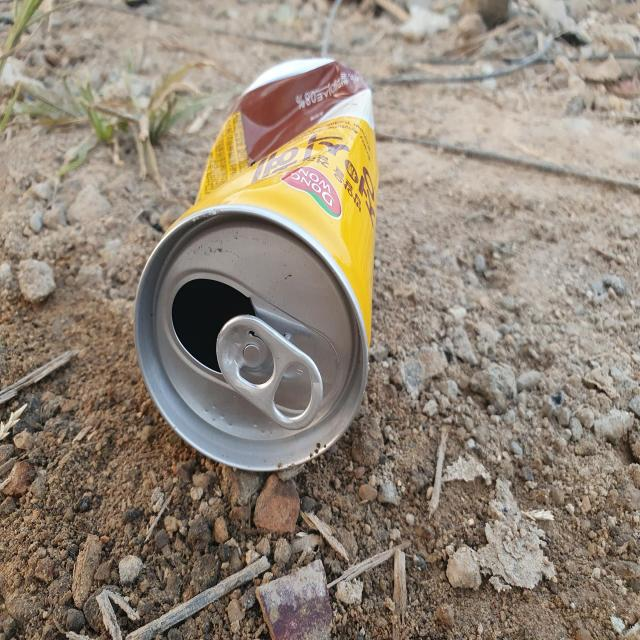can: (134, 57, 378, 471)
